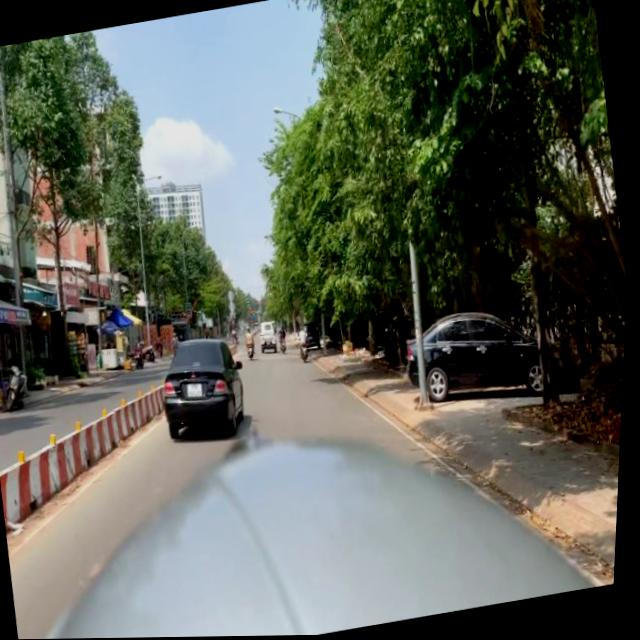Cam di nguoc chieu: (251, 310, 256, 316)
Vong chuong ngai vat sang phai: (252, 315, 256, 320)
